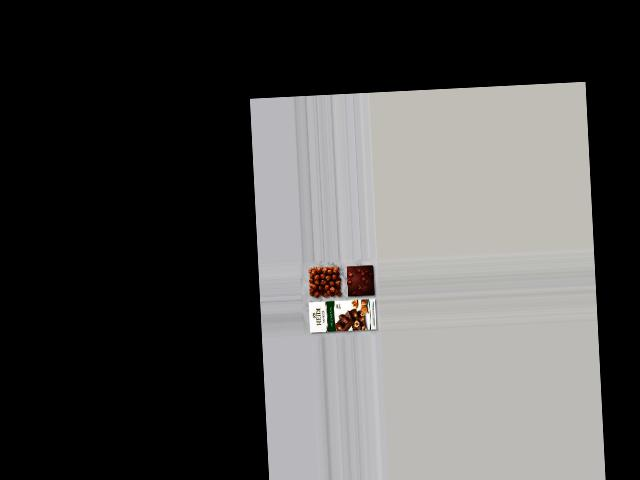chocolate: (345, 261, 376, 297)
